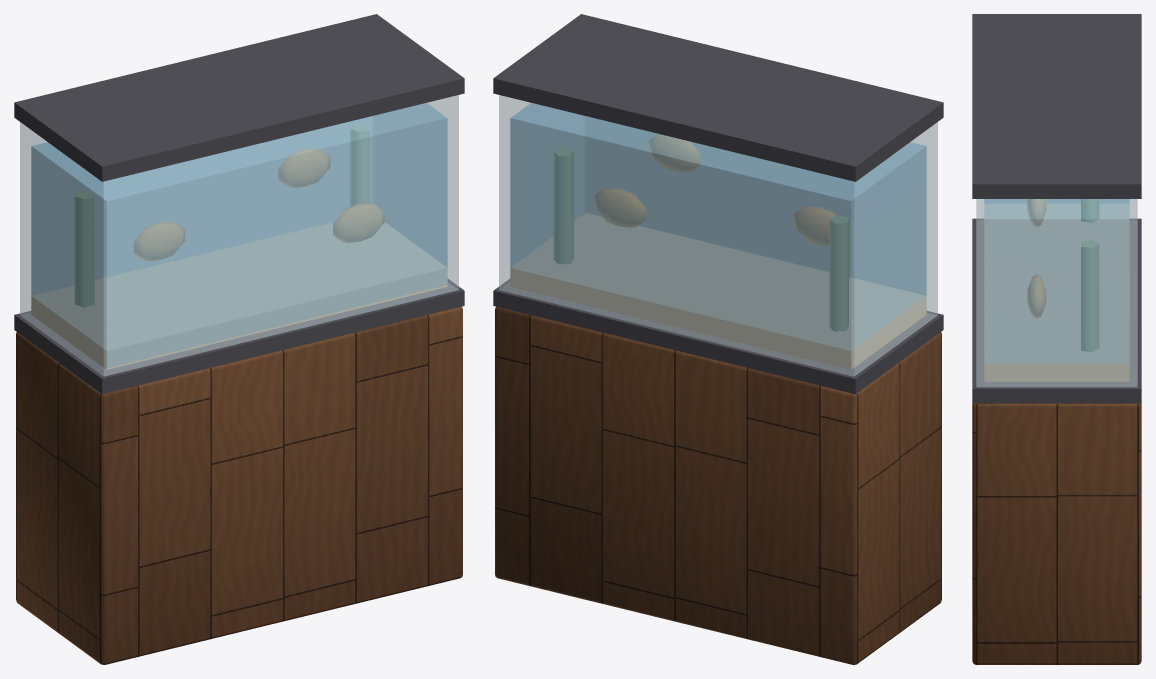
3 views of the same model, side by side, from view 1: azimuth 30°, elevation 25°; view 2: azimuth 150°, elevation 25°; view 3: azimuth 270°, elevation 25° (orthographic). The views are drawn at different scales.
Visible parts, largest first — view 1: Decor_aquarium; view 2: Decor_aquarium; view 3: Decor_aquarium.
Part boxes in pixels (left/top/right/bottom): Decor_aquarium: left=14, top=14, right=464, bottom=664; Decor_aquarium: left=493, top=14, right=943, bottom=664; Decor_aquarium: left=972, top=14, right=1141, bottom=664.
Size of the model in its own units: 1 by 1.32 by 0.42.
3 materials, 3 textured.
